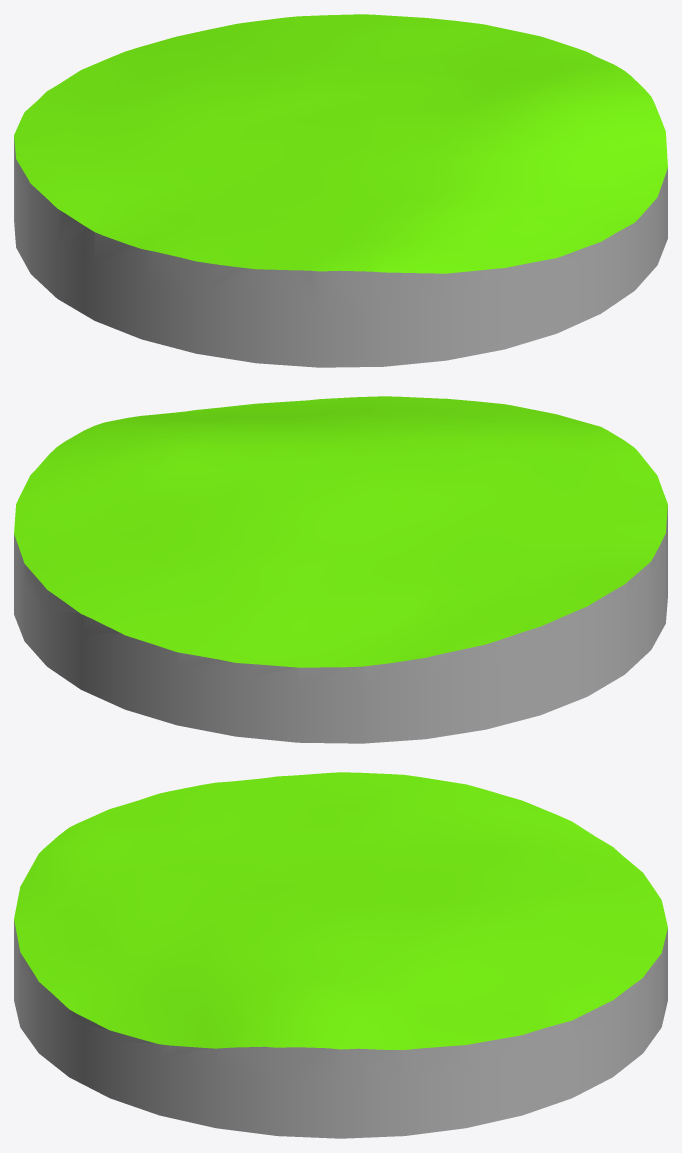
Rendered from GIS_terrain_01.fbx.
3 renders of one model, top to bottom at view 1: azimuth 30°, elevation 25°; view 2: azimuth 150°, elevation 25°; view 3: azimuth 270°, elevation 25°, orthographic.
Visible parts, largest first — view 1: terrain_top, terrain_side; view 2: terrain_top, terrain_side; view 3: terrain_top, terrain_side.
Boxes of the visible parts, x1,y1,x2,y2 form: terrain_top: [14, 14, 667, 273]; terrain_side: [14, 137, 667, 367]; terrain_top: [14, 396, 667, 667]; terrain_side: [14, 506, 667, 743]; terrain_top: [14, 772, 667, 1049]; terrain_side: [14, 920, 667, 1138].
Size of the model in its own units: 1617 by 1617 by 277.
